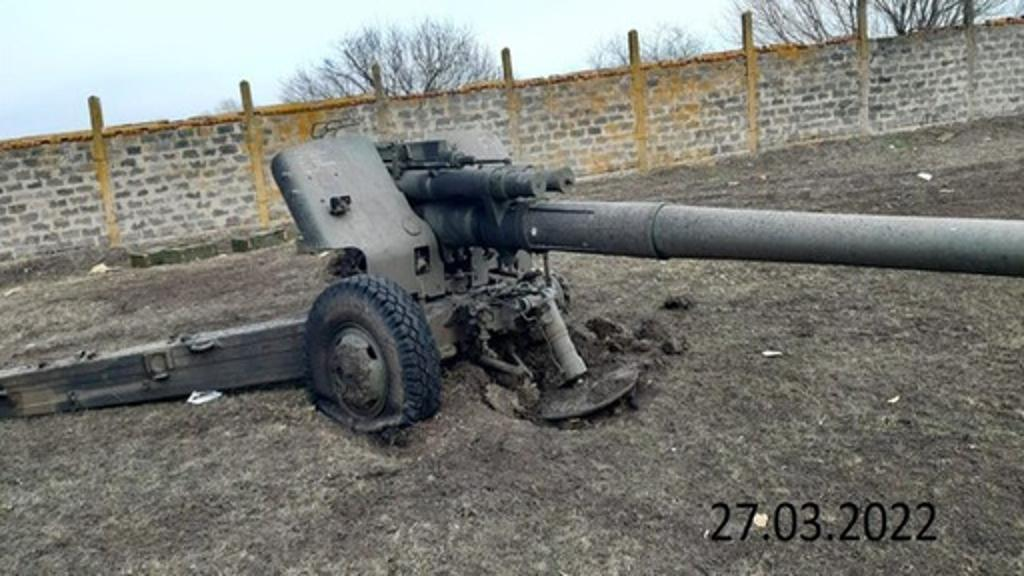ART: (6, 120, 984, 448)
